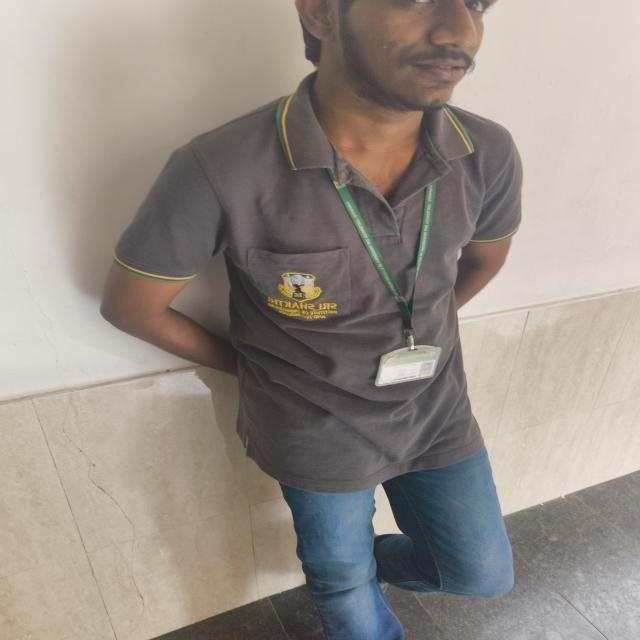ID_card: (364, 184, 442, 387)
